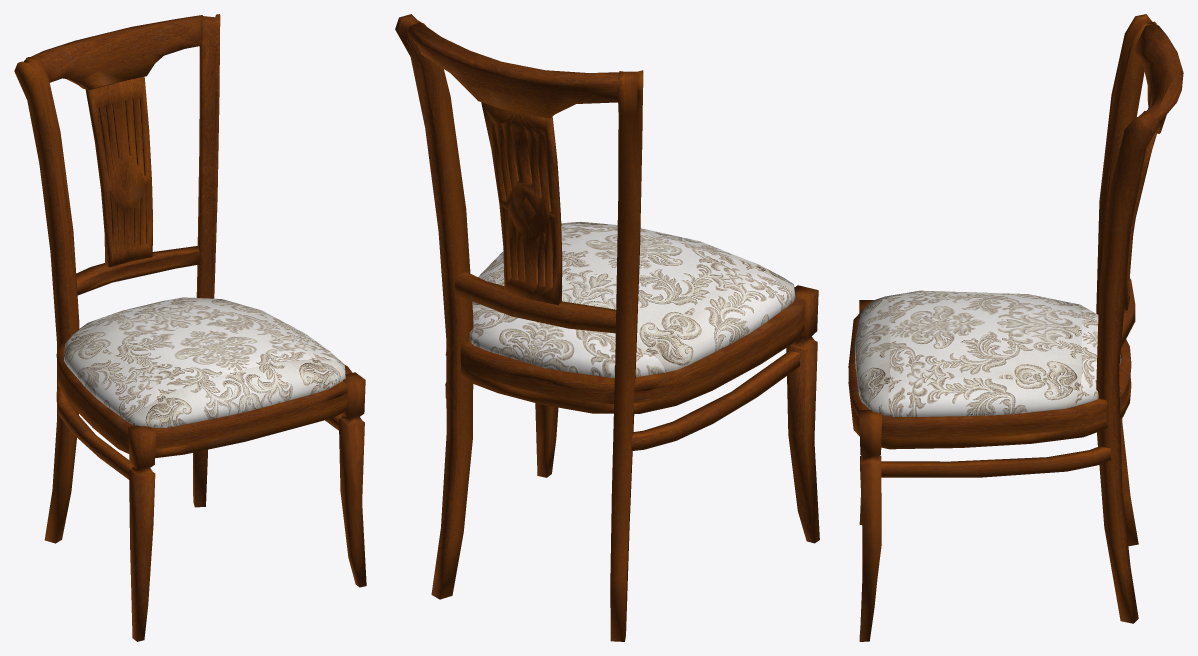
File: chair2.FBX
The picture shows the model from 3 angles, left to right: view 1: azimuth 30°, elevation 25°; view 2: azimuth 150°, elevation 25°; view 3: azimuth 270°, elevation 25°; orthographic projection. The views are drawn at different scales.
Parts seen in each view (by area): view 1: chair; view 2: chair; view 3: chair.
Boxes of the visible parts, x1,y1,x2,y2 form: chair: (14, 14, 366, 641); chair: (395, 14, 819, 641); chair: (848, 14, 1183, 641).
Bounding box in the file's own units: 48.54 × 96.63 × 56.97.
